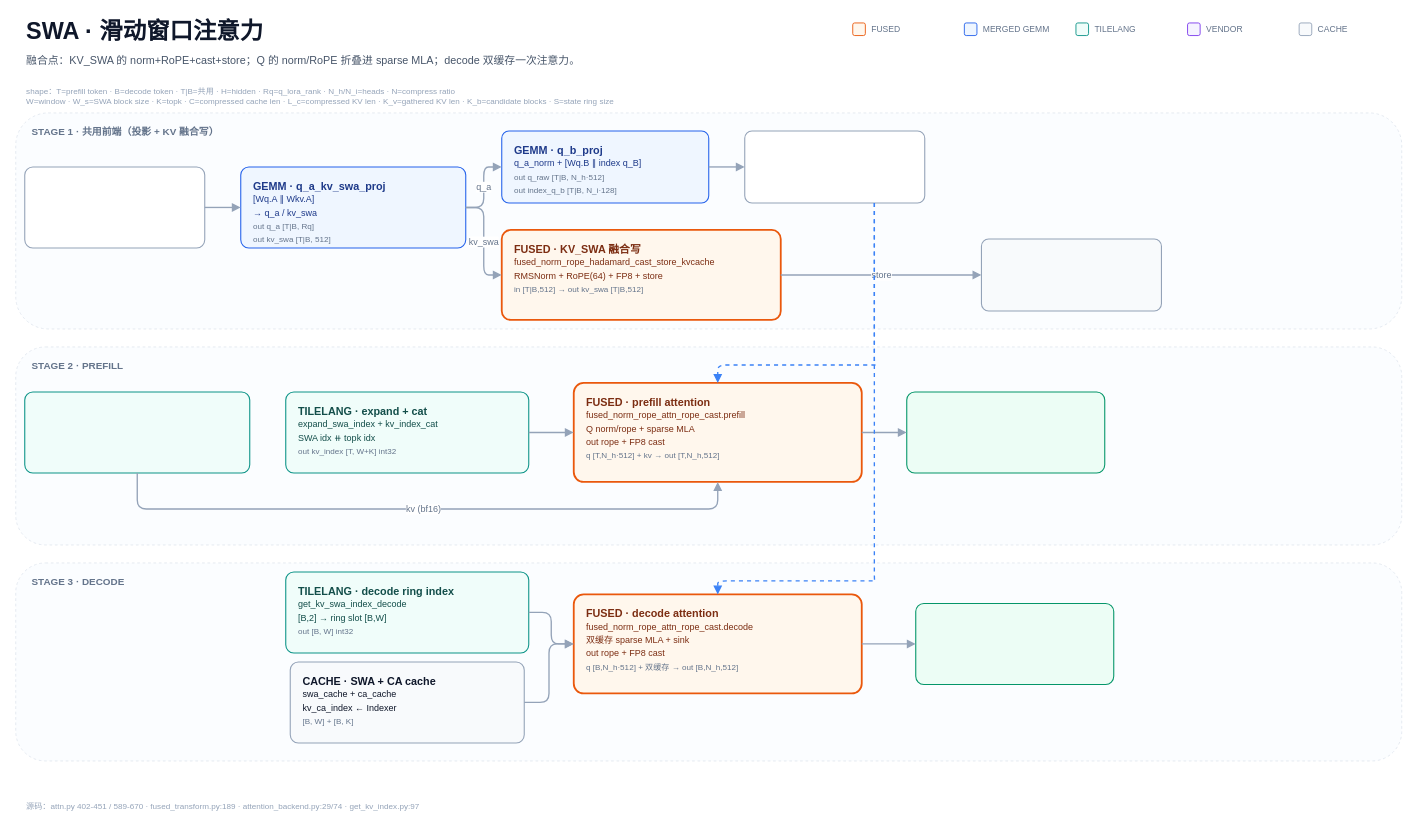
This 1424x830 diagram has some shape labels left out. Each missing label, with the centre of its shape:
"CACHE · swa_cache MXFP8 · 528 B/token ring buffer [blocks, W_s, 512]" goes at pixel 1071 274.
"context (fp8, sf) → WV / out_proj [B, N_h, 512] (fp8, sf)" goes at pixel 1014 643.
"context (fp8, sf) → WV / out_proj [T, N_h, 512] (fp8, sf)" goes at pixel 1005 432.
"hidden / shared_hidden bf16 或 (fp8, sf) YOCO 可选 in [T|B, H]" goes at pixel 114 207.
"q_raw / index_q_b 未 norm/rope → 注意力 q_raw [T|B, N_h·512]" goes at pixel 834 166.
"TILELANG · load_paged_kv_cache swa_cache 历史 → 连续 bf16 out kv [K_v, 512] bf16" goes at pixel 137 432.
